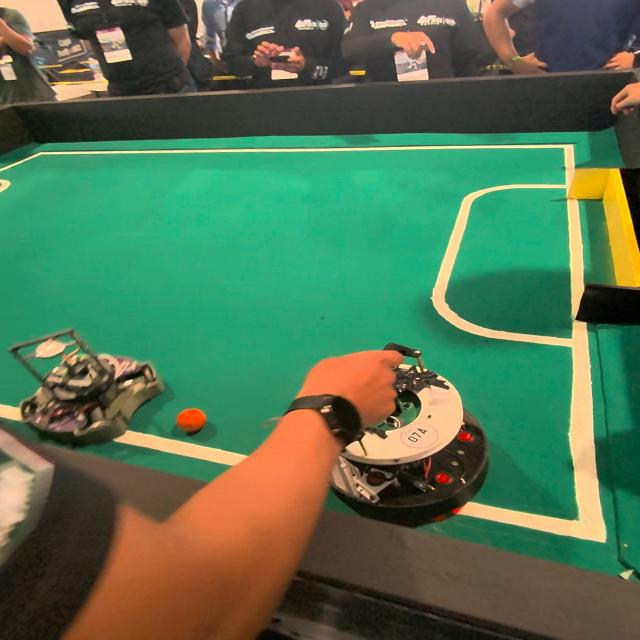Robot: (329, 350, 513, 516), (18, 343, 168, 449)
pelota: (176, 408, 207, 436)
